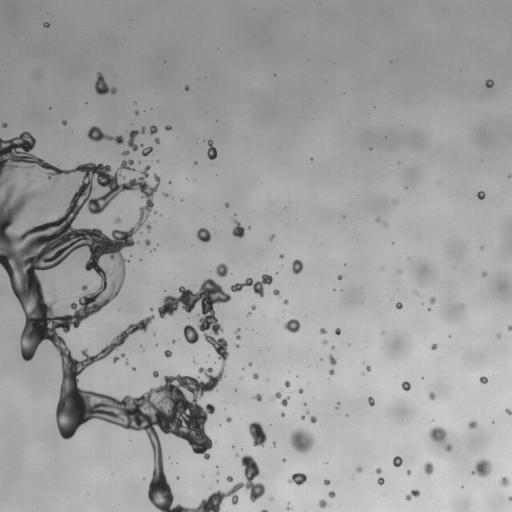droplet: (288, 428, 316, 454), (94, 71, 117, 95), (248, 421, 267, 447), (470, 457, 492, 478), (428, 425, 447, 443), (282, 318, 301, 333), (286, 472, 306, 485), (196, 227, 211, 242), (215, 263, 228, 278), (291, 259, 303, 274), (423, 461, 435, 476), (405, 489, 420, 501), (499, 476, 511, 487), (392, 456, 403, 467), (1, 129, 12, 140), (142, 134, 153, 145), (130, 149, 141, 160), (270, 241, 281, 252), (219, 279, 230, 290), (102, 333, 113, 344), (40, 338, 51, 349), (319, 345, 330, 356), (50, 352, 61, 363), (251, 380, 262, 391), (261, 388, 272, 399), (289, 393, 300, 404), (196, 396, 207, 407), (300, 420, 311, 431), (76, 423, 87, 434), (202, 423, 213, 434), (136, 428, 147, 439), (282, 440, 293, 451), (285, 445, 296, 456), (307, 445, 318, 456), (248, 447, 259, 458), (363, 462, 374, 473), (413, 464, 424, 475), (488, 468, 499, 479), (234, 471, 245, 482), (219, 481, 230, 492), (189, 497, 200, 508), (219, 498, 230, 509), (317, 499, 330, 508), (148, 124, 158, 135), (272, 288, 282, 299), (467, 419, 478, 429), (328, 353, 337, 365), (401, 380, 410, 391), (250, 393, 262, 401), (485, 78, 494, 88), (476, 190, 485, 199), (104, 77, 113, 86), (156, 127, 165, 136), (119, 141, 128, 150), (145, 176, 154, 185), (151, 192, 160, 201), (146, 213, 155, 222), (120, 246, 129, 255), (252, 273, 261, 282), (213, 275, 222, 284), (221, 284, 230, 293), (190, 285, 199, 294), (17, 316, 26, 325), (225, 344, 234, 353), (72, 351, 81, 360), (289, 382, 298, 391), (50, 395, 59, 404), (165, 475, 174, 484), (265, 233, 275, 241), (113, 216, 122, 224), (318, 327, 327, 335), (428, 391, 436, 400), (354, 465, 363, 473), (327, 489, 335, 498), (368, 396, 375, 406), (505, 483, 511, 494), (163, 349, 171, 357), (309, 415, 317, 423), (444, 444, 452, 452), (377, 477, 385, 485), (320, 338, 329, 345), (430, 342, 437, 351), (479, 376, 488, 383), (374, 467, 383, 474), (429, 296, 436, 304), (395, 302, 403, 309), (252, 372, 259, 380), (0, 188, 5, 199), (144, 238, 150, 247), (154, 137, 161, 144), (392, 198, 399, 205), (334, 328, 341, 335), (225, 416, 232, 423), (226, 475, 233, 482), (90, 74, 97, 81), (89, 87, 96, 94), (104, 91, 111, 98), (82, 126, 89, 133), (100, 126, 107, 133), (111, 130, 118, 137), (122, 134, 129, 141), (132, 136, 139, 143), (99, 137, 106, 144), (87, 138, 94, 145), (28, 148, 35, 155), (123, 154, 130, 161), (43, 156, 50, 163), (79, 157, 86, 164), (137, 163, 144, 170), (107, 169, 114, 176), (159, 178, 166, 185), (226, 207, 233, 214), (130, 233, 137, 240), (262, 283, 269, 290), (174, 290, 181, 297), (279, 291, 286, 298), (211, 302, 218, 309), (100, 305, 107, 312), (143, 310, 150, 317), (87, 313, 94, 320), (283, 314, 290, 321), (296, 315, 303, 322), (132, 317, 139, 324), (79, 319, 86, 326), (120, 323, 127, 330), (55, 327, 62, 334), (114, 328, 121, 335), (52, 349, 59, 356), (87, 349, 94, 356), (322, 356, 329, 363), (248, 366, 255, 373), (56, 370, 63, 377), (215, 381, 222, 388), (51, 399, 58, 406), (50, 403, 57, 410), (280, 405, 287, 412), (309, 409, 316, 416), (206, 413, 213, 420), (463, 416, 470, 423), (430, 421, 437, 428), (261, 425, 268, 432), (126, 428, 133, 435), (53, 429, 60, 436), (247, 436, 254, 443), (181, 438, 188, 445), (263, 438, 270, 445), (439, 439, 446, 446), (235, 457, 242, 464), (161, 458, 168, 465), (353, 459, 360, 466), (255, 460, 262, 467), (469, 463, 476, 470), (473, 473, 480, 480), (145, 475, 152, 482), (219, 475, 226, 482), (240, 476, 247, 483), (252, 476, 259, 483), (226, 481, 233, 488), (325, 484, 332, 491), (210, 486, 217, 493), (255, 496, 262, 503), (325, 496, 332, 503), (181, 501, 188, 508), (295, 388, 303, 394), (334, 401, 340, 409), (396, 268, 403, 274), (481, 270, 487, 277), (282, 298, 288, 305), (152, 370, 158, 377), (505, 408, 511, 415), (323, 479, 330, 485), (164, 125, 172, 130), (1, 122, 7, 128), (459, 303, 465, 309), (279, 411, 285, 417), (0, 264, 4, 273), (43, 22, 50, 27), (162, 192, 169, 197), (184, 85, 189, 91), (62, 120, 67, 126), (223, 202, 229, 207), (278, 253, 284, 258), (337, 274, 342, 280), (251, 304, 256, 310), (246, 311, 251, 317), (495, 333, 501, 338), (329, 369, 334, 375), (406, 469, 411, 475), (507, 474, 511, 481), (153, 507, 160, 511), (319, 507, 326, 511), (134, 110, 139, 115), (341, 214, 346, 219), (479, 245, 484, 250), (330, 345, 335, 350), (131, 366, 136, 371), (265, 376, 270, 381), (235, 452, 240, 457), (269, 496, 274, 501), (480, 81, 485, 86), (115, 84, 120, 89), (482, 85, 487, 90), (114, 90, 119, 95), (133, 104, 138, 109), (144, 105, 149, 110), (137, 107, 142, 112), (138, 110, 143, 115), (92, 121, 97, 126), (130, 125, 135, 130), (144, 127, 149, 132), (15, 131, 20, 136), (31, 132, 36, 137), (152, 132, 157, 137), (1, 135, 6, 140), (110, 139, 115, 144), (127, 146, 132, 151), (137, 146, 142, 151), (215, 147, 220, 152), (146, 153, 151, 158), (215, 153, 220, 158), (203, 154, 208, 159), (210, 158, 215, 163), (49, 160, 54, 165), (93, 160, 98, 165), (116, 160, 121, 165), (72, 163, 77, 168), (57, 164, 62, 169), (146, 169, 151, 174), (156, 185, 161, 190), (480, 198, 485, 203), (219, 201, 224, 206), (151, 205, 156, 210), (148, 210, 153, 215), (371, 214, 376, 219), (235, 216, 240, 221), (377, 221, 382, 226), (231, 222, 236, 227), (239, 222, 244, 227), (196, 224, 201, 229), (140, 225, 145, 230), (243, 228, 248, 233), (270, 228, 275, 233), (209, 231, 214, 236), (233, 235, 238, 240), (265, 239, 270, 244), (199, 240, 204, 245), (140, 241, 145, 246), (148, 243, 153, 248), (298, 256, 303, 261), (279, 257, 284, 262), (218, 258, 223, 263), (287, 263, 292, 268), (479, 266, 484, 271), (483, 266, 488, 271), (226, 268, 231, 273), (261, 269, 266, 274), (266, 270, 271, 275), (298, 270, 303, 275), (225, 271, 230, 276), (476, 271, 481, 276), (124, 272, 129, 277), (485, 273, 490, 278), (271, 274, 276, 279), (257, 276, 262, 281), (240, 278, 245, 283), (184, 284, 189, 289), (248, 284, 253, 289), (241, 285, 246, 290), (278, 288, 283, 293), (118, 289, 123, 294), (417, 289, 422, 294), (163, 291, 168, 296), (430, 291, 435, 296), (254, 292, 259, 297), (11, 294, 16, 299), (272, 294, 277, 299), (434, 296, 439, 301), (278, 297, 283, 302), (394, 297, 399, 302), (225, 300, 230, 305), (433, 300, 438, 305), (425, 302, 430, 307), (429, 303, 434, 308), (282, 304, 287, 309), (246, 306, 251, 311), (213, 312, 218, 317), (288, 314, 293, 319), (216, 319, 221, 324), (298, 319, 303, 324), (69, 324, 74, 329), (315, 326, 320, 331), (503, 326, 508, 331), (297, 327, 302, 332), (494, 328, 499, 333), (285, 329, 290, 334), (321, 333, 326, 338), (213, 334, 218, 339), (493, 337, 498, 342), (235, 339, 240, 344), (427, 341, 432, 346), (100, 343, 105, 348), (325, 343, 330, 348), (436, 344, 441, 349), (79, 345, 84, 350), (433, 348, 438, 353), (17, 353, 22, 358), (332, 353, 337, 358), (225, 355, 230, 360), (335, 358, 340, 363), (365, 360, 370, 365), (243, 363, 248, 368), (328, 364, 333, 369), (369, 364, 374, 369), (361, 366, 366, 371), (333, 369, 338, 374), (240, 370, 245, 375), (364, 370, 369, 375), (480, 371, 485, 376), (329, 374, 334, 379), (257, 375, 262, 380), (251, 378, 256, 383), (479, 382, 484, 387), (409, 384, 414, 389), (273, 387, 278, 392), (433, 391, 438, 396), (424, 394, 429, 399), (260, 395, 265, 400), (276, 397, 281, 402), (252, 398, 257, 403), (430, 399, 435, 404), (209, 400, 214, 405), (364, 401, 369, 406), (213, 407, 218, 412), (228, 412, 233, 417), (503, 412, 508, 417), (305, 414, 310, 419), (315, 415, 320, 420), (230, 418, 235, 423), (314, 420, 319, 425), (224, 421, 229, 426), (111, 423, 116, 428), (119, 426, 124, 431), (470, 427, 475, 432), (450, 443, 455, 448), (147, 444, 152, 449), (160, 448, 165, 453), (205, 448, 210, 453), (393, 451, 398, 456), (445, 451, 450, 456), (198, 452, 203, 457), (401, 456, 406, 461), (388, 458, 393, 463), (431, 462, 436, 467), (374, 463, 379, 468), (377, 463, 382, 468), (361, 464, 366, 469), (390, 464, 395, 469), (240, 465, 245, 470), (350, 467, 355, 472), (370, 467, 375, 472), (297, 468, 302, 473), (354, 471, 359, 476), (359, 471, 364, 476), (287, 473, 292, 478), (375, 473, 380, 478), (213, 474, 218, 479), (324, 474, 329, 479), (497, 474, 502, 479), (305, 475, 310, 480), (372, 478, 377, 483), (290, 480, 295, 485), (301, 481, 306, 486), (412, 485, 417, 490), (334, 491, 339, 496), (418, 491, 423, 496), (503, 494, 508, 499), (400, 495, 405, 500), (144, 496, 149, 501), (507, 496, 511, 502), (193, 160, 197, 165), (239, 375, 243, 380), (302, 402, 307, 406), (138, 159, 141, 165), (508, 325, 511, 331), (507, 174, 511, 178), (283, 205, 287, 209), (247, 226, 251, 230), (381, 331, 385, 335), (171, 339, 175, 343), (347, 342, 351, 346), (248, 362, 252, 366), (345, 413, 349, 417), (282, 458, 286, 462), (460, 485, 464, 489), (508, 320, 511, 325), (508, 329, 511, 334), (508, 405, 511, 410), (133, 101, 137, 104), (310, 157, 313, 161), (156, 159, 159, 163), (397, 160, 400, 164), (168, 180, 171, 184), (406, 256, 410, 259), (280, 264, 283, 268), (163, 289, 167, 292), (427, 307, 430, 311), (152, 332, 156, 335), (448, 334, 451, 338), (155, 342, 158, 346), (319, 358, 323, 361), (241, 366, 244, 370), (361, 372, 365, 375), (231, 445, 235, 448), (176, 475, 179, 479), (201, 474, 204, 478), (0, 119, 2, 124), (389, 60, 392, 63), (273, 73, 276, 76), (384, 136, 387, 139), (369, 147, 372, 150), (185, 177, 188, 180), (404, 186, 407, 189), (180, 198, 183, 201), (391, 241, 394, 244), (156, 243, 159, 246), (153, 248, 156, 251), (129, 254, 132, 257), (139, 258, 142, 261), (275, 271, 278, 274), (421, 302, 424, 305), (287, 369, 290, 372), (431, 419, 434, 422), (142, 477, 145, 480), (47, 20, 50, 23), (40, 24, 43, 27), (46, 26, 49, 29), (270, 73, 273, 76), (485, 76, 488, 79), (489, 76, 492, 79), (492, 78, 495, 81), (181, 87, 184, 90), (487, 87, 490, 90), (187, 89, 190, 92), (81, 100, 84, 103), (87, 101, 90, 104), (45, 106, 48, 109), (51, 106, 54, 109), (131, 111, 134, 114), (64, 117, 67, 120), (59, 118, 62, 121), (212, 119, 215, 122), (66, 121, 69, 124), (152, 122, 155, 125), (163, 122, 166, 125), (168, 122, 171, 125), (60, 123, 63, 126), (6, 124, 9, 127), (3, 126, 6, 129), (166, 129, 169, 132), (158, 138, 161, 141), (143, 144, 146, 147), (369, 144, 372, 147), (206, 145, 209, 148), (369, 149, 372, 152), (312, 156, 315, 159), (159, 159, 162, 162), (196, 159, 199, 162), (307, 159, 310, 162), (190, 161, 193, 164), (193, 164, 196, 167), (156, 172, 159, 175), (505, 172, 508, 175), (170, 178, 173, 181), (168, 183, 171, 186), (407, 185, 410, 188), (477, 188, 480, 191), (164, 190, 167, 193), (483, 190, 486, 193), (168, 194, 171, 197), (484, 194, 487, 197), (474, 195, 477, 198), (164, 196, 167, 199), (177, 199, 180, 202), (182, 199, 185, 202), (225, 199, 228, 202), (228, 202, 231, 205), (223, 206, 226, 209), (156, 210, 159, 213), (230, 212, 233, 215), (155, 213, 158, 216), (379, 217, 382, 220), (149, 223, 152, 226), (149, 228, 152, 231), (272, 237, 275, 240), (391, 238, 394, 241), (388, 241, 391, 244), (133, 242, 136, 245), (158, 242, 161, 245), (392, 243, 395, 246), (151, 249, 154, 252), (278, 251, 281, 254), (138, 255, 141, 258), (138, 260, 141, 263), (340, 263, 343, 266), (343, 265, 346, 268), (338, 271, 341, 274), (248, 274, 251, 277), (334, 275, 337, 278), (341, 275, 344, 278), (335, 278, 338, 281), (340, 278, 343, 281), (232, 281, 235, 284), (333, 285, 336, 288), (329, 287, 332, 290), (335, 288, 338, 291), (339, 291, 342, 294), (114, 295, 117, 298), (415, 295, 418, 298), (287, 301, 290, 304), (401, 305, 404, 308), (393, 306, 396, 309), (396, 308, 399, 311), (426, 310, 429, 313), (244, 311, 247, 314), (320, 324, 323, 327), (505, 324, 508, 327), (334, 325, 337, 328), (233, 327, 236, 330), (324, 327, 327, 330), (332, 331, 335, 334), (447, 331, 450, 334), (233, 333, 236, 336), (335, 334, 338, 337), (445, 335, 448, 338), (450, 335, 453, 338), (344, 343, 347, 346), (349, 344, 352, 347), (334, 345, 337, 348), (316, 356, 319, 359), (247, 359, 250, 362), (250, 363, 253, 366), (238, 366, 241, 369), (222, 371, 225, 374), (295, 371, 298, 374), (327, 373, 330, 376), (418, 376, 421, 379), (423, 376, 426, 379), (402, 378, 405, 381), (405, 378, 408, 381), (282, 384, 285, 387), (296, 386, 299, 389), (399, 386, 402, 389), (231, 388, 234, 391), (236, 388, 239, 391), (302, 388, 305, 391), (402, 389, 405, 392), (233, 391, 236, 394), (259, 392, 262, 395), (300, 392, 303, 395), (336, 398, 339, 401), (373, 398, 376, 401), (286, 399, 289, 402), (306, 402, 309, 405), (300, 403, 303, 406), (373, 403, 376, 406), (337, 404, 340, 407), (336, 408, 339, 411), (345, 410, 348, 413), (278, 414, 281, 417), (342, 414, 345, 417), (297, 415, 300, 418), (281, 416, 284, 419), (346, 416, 349, 419), (428, 417, 431, 420), (490, 417, 493, 420), (488, 421, 491, 424), (491, 423, 494, 426), (211, 441, 214, 444), (231, 441, 234, 444), (275, 442, 278, 445), (228, 444, 231, 447), (272, 447, 275, 450), (397, 453, 400, 456), (279, 457, 282, 460), (204, 458, 207, 461), (285, 458, 288, 461), (323, 459, 326, 462), (172, 461, 175, 464), (282, 461, 285, 464), (216, 462, 219, 465), (325, 463, 328, 466), (212, 464, 215, 467), (214, 467, 217, 470), (217, 467, 220, 470), (380, 467, 383, 470), (410, 470, 413, 473), (468, 472, 471, 475), (229, 473, 232, 476), (224, 474, 227, 477), (178, 477, 181, 480), (383, 477, 386, 480), (320, 480, 323, 483), (459, 482, 462, 485), (376, 483, 379, 486), (381, 483, 384, 486), (463, 484, 466, 487), (506, 499, 509, 502), (284, 503, 287, 506), (261, 506, 264, 509), (307, 382, 311, 384), (85, 101, 87, 104), (49, 106, 51, 109), (150, 107, 152, 110), (480, 159, 483, 161), (75, 182, 77, 185), (154, 220, 156, 223), (149, 249, 151, 252), (209, 270, 212, 272), (230, 272, 232, 275), (333, 288, 335, 291), (166, 342, 169, 344), (234, 388, 236, 391), (491, 421, 494, 423), (216, 480, 219, 482), (509, 172, 511, 175), (509, 176, 511, 179), (509, 414, 511, 417), (287, 509, 290, 511), (216, 120, 218, 122), (130, 123, 132, 125), (171, 197, 173, 199), (344, 263, 346, 265), (118, 308, 120, 310), (251, 329, 253, 331), (178, 338, 180, 340), (205, 360, 207, 362), (296, 375, 298, 377), (219, 424, 221, 426), (269, 424, 271, 426), (168, 456, 170, 458), (176, 462, 178, 464), (0, 124, 1, 127), (341, 289, 342, 291), (208, 354, 209, 356), (129, 440, 131, 441), (241, 448, 242, 450), (214, 361, 215, 362), (305, 510, 306, 511)
ligament: (229, 273, 273, 297), (86, 125, 124, 144), (231, 213, 245, 239), (206, 139, 217, 159), (375, 216, 389, 227), (113, 353, 125, 363), (360, 361, 371, 371), (234, 327, 241, 340), (301, 409, 309, 419), (413, 288, 421, 297), (153, 210, 162, 217), (192, 356, 197, 364), (215, 465, 219, 475), (233, 343, 239, 348), (280, 309, 287, 313), (140, 345, 144, 351), (125, 358, 128, 365), (260, 509, 268, 511), (194, 283, 196, 287), (421, 375, 423, 379), (289, 391, 292, 393), (323, 462, 328, 463), (143, 110, 145, 111)
